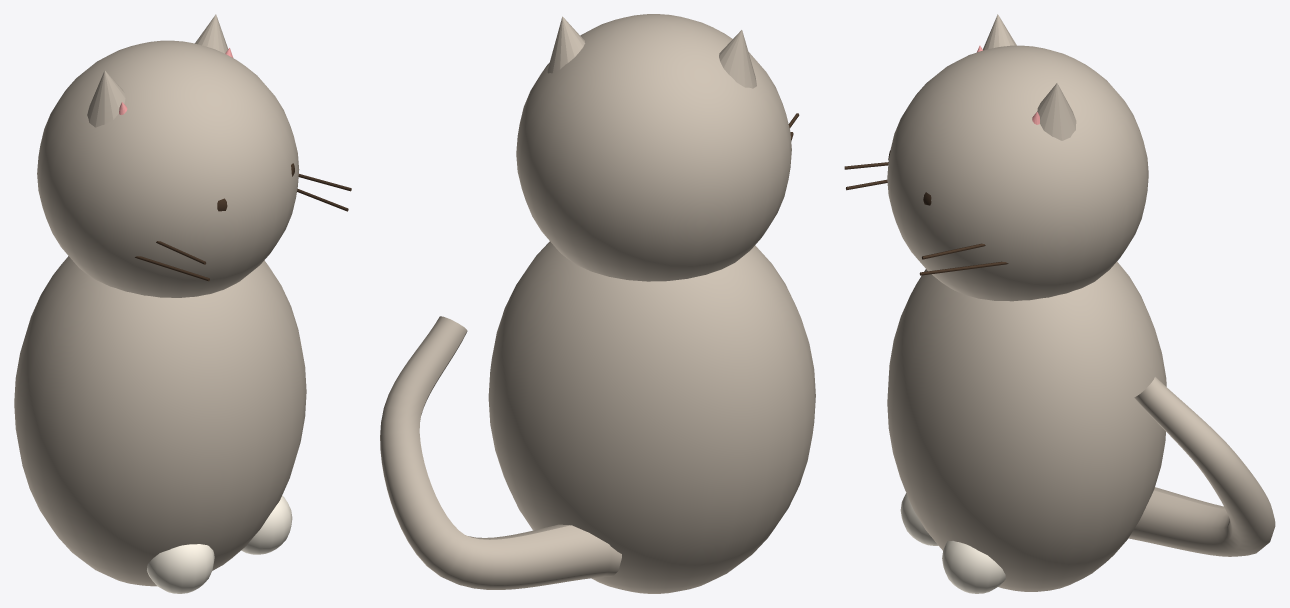
The model's file is cat.glb.
3 views of the same model, side by side, from view 1: azimuth 30°, elevation 25°; view 2: azimuth 150°, elevation 25°; view 3: azimuth 270°, elevation 25° (orthographic). The views are drawn at different scales.
Parts seen in each view (by area): view 1: cat; view 2: cat; view 3: cat.
Part boxes in pixels (left/top/right/bottom): cat: left=14, top=14, right=351, bottom=593; cat: left=380, top=14, right=815, bottom=593; cat: left=844, top=14, right=1275, bottom=593.
Size of the model in its own units: 1.34 by 2.34 by 1.71.
